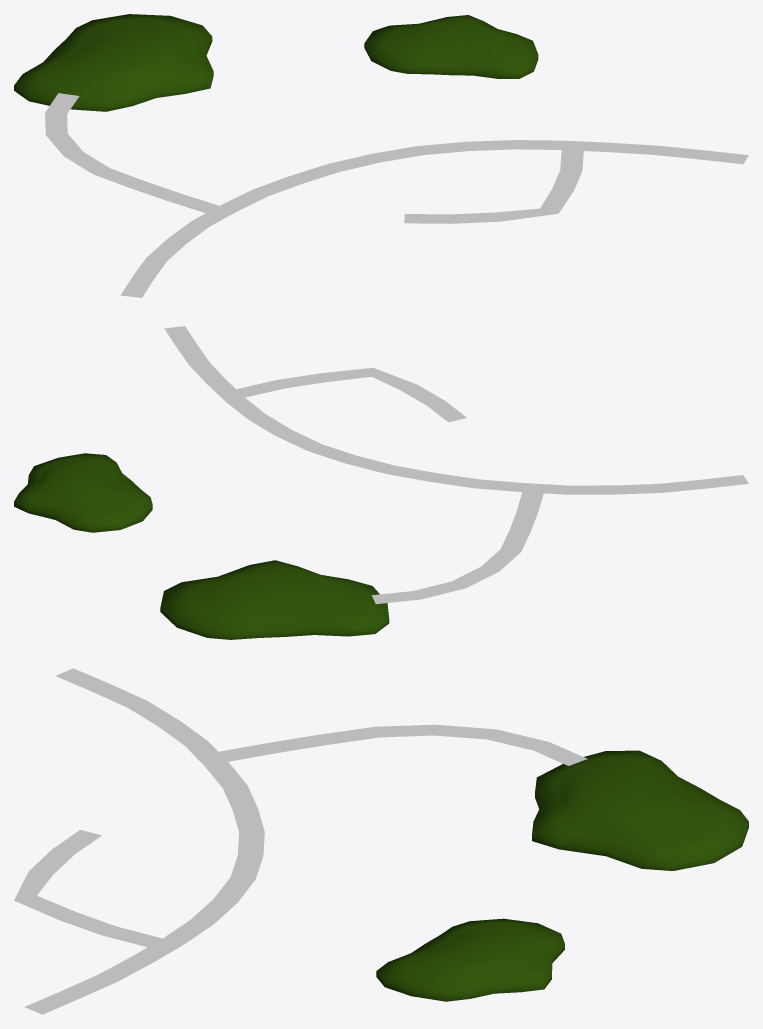
The model's file is level.dae.
3 renders of one model, top to bottom at view 1: azimuth 30°, elevation 25°; view 2: azimuth 150°, elevation 25°; view 3: azimuth 270°, elevation 25°, orthographic. The views are drawn at different scales.
Visible parts, largest first — view 1: boardwalk_col, island1, island2; view 2: island1, boardwalk_col, island2; view 3: island1, boardwalk_col, island2.
Boxes of the visible parts, <box> form: boardwalk_col: <box>45,93,748,297</box>; island1: <box>14,14,213,111</box>; island2: <box>364,15,538,78</box>; island1: <box>160,560,389,639</box>; boardwalk_col: <box>164,326,748,604</box>; island2: <box>14,453,152,532</box>; island1: <box>532,750,748,870</box>; boardwalk_col: <box>14,668,587,1014</box>; island2: <box>376,918,564,1001</box>.
Size of what is drawn, in the model's own units: 368 by 330 by 13.54.
